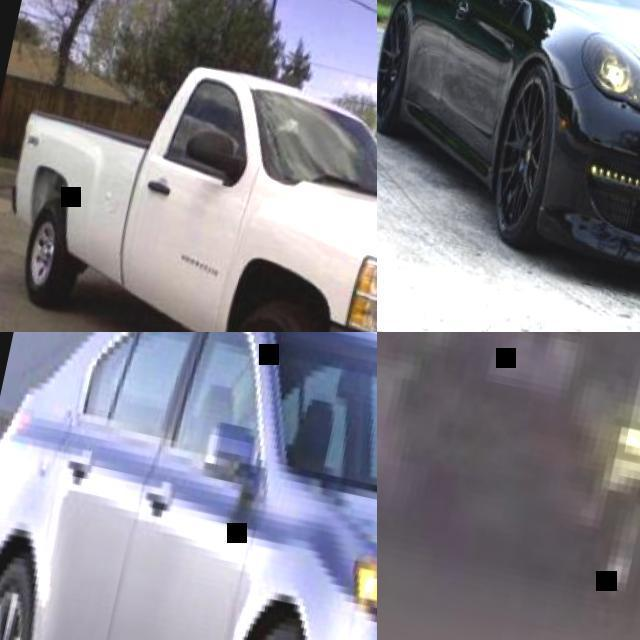car: (13, 62, 401, 330), (381, 0, 639, 283)
